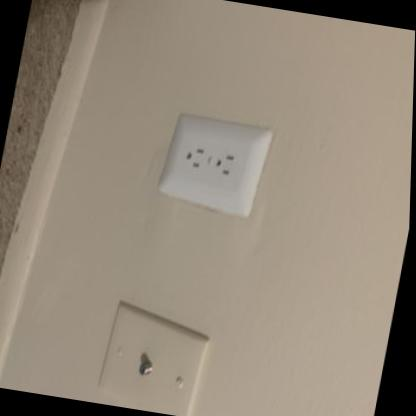OUTLET: (155, 110, 272, 212)
